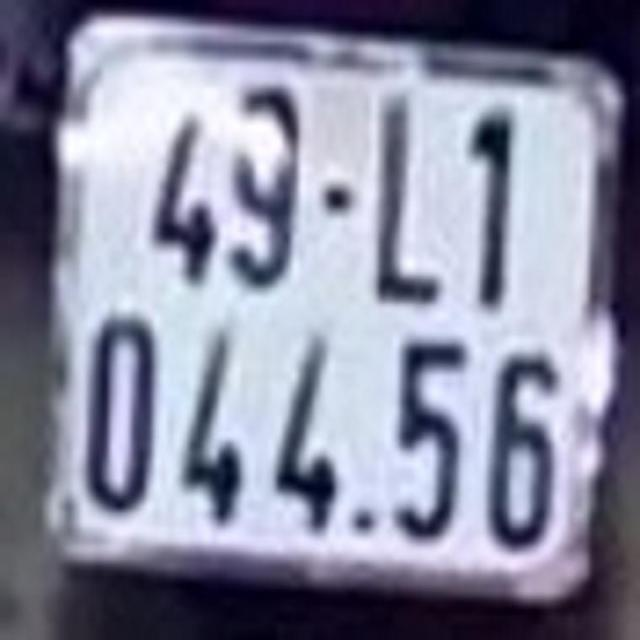0: (76, 306, 160, 509)
1: (460, 101, 513, 306)
4: (139, 82, 221, 289), (267, 320, 340, 531), (183, 321, 248, 528)
5: (389, 328, 467, 543)
6: (486, 342, 558, 548)
9: (228, 87, 298, 284)
L: (366, 82, 444, 306)
